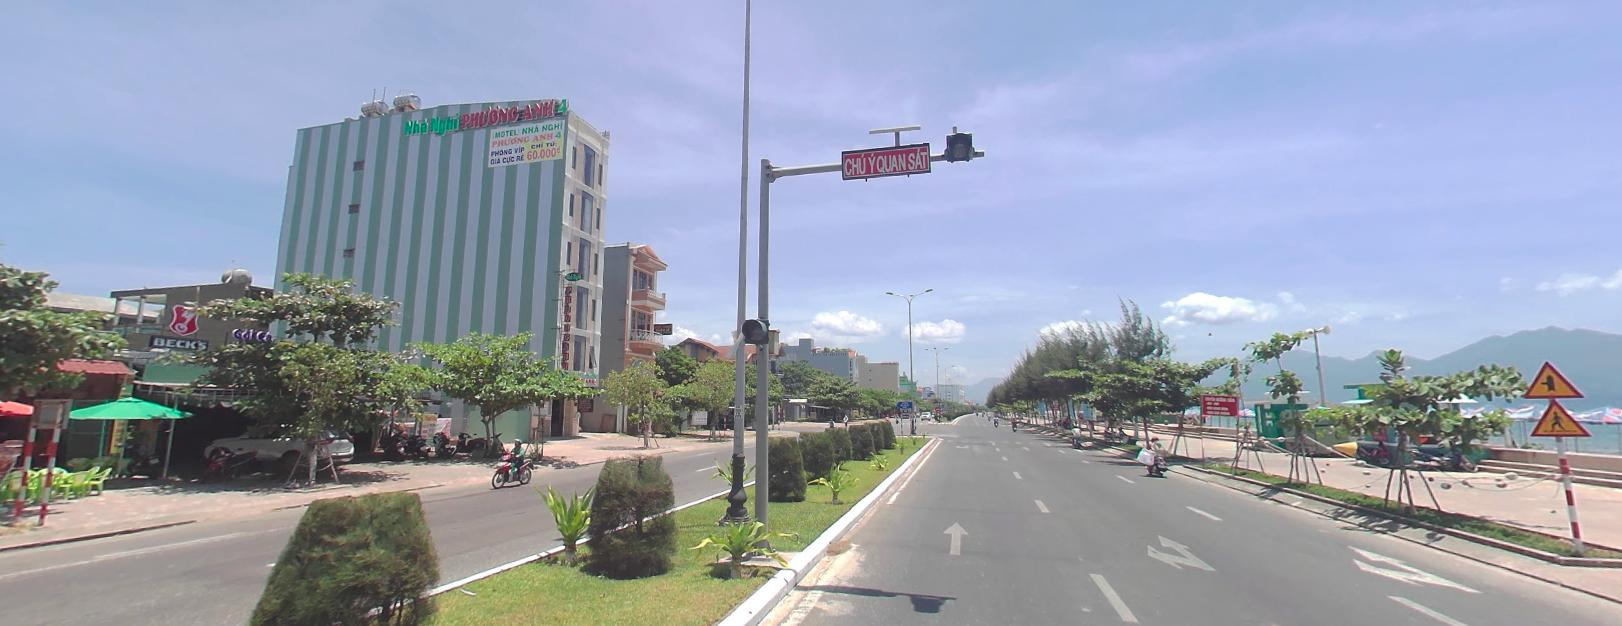Cam nguoc chieu: (934, 404, 940, 409)
Nguy hiem: (1516, 353, 1584, 400), (1521, 399, 1593, 440)
